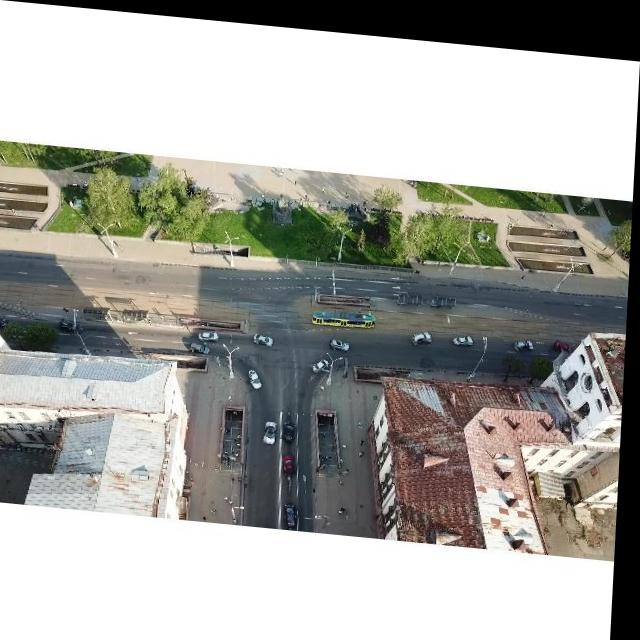vehicle: (413, 322, 437, 338), (267, 415, 282, 439), (249, 363, 266, 384), (63, 318, 87, 332), (315, 350, 332, 369), (286, 414, 300, 437), (287, 447, 301, 470), (333, 331, 354, 345), (556, 328, 576, 342), (289, 497, 301, 520), (257, 329, 278, 342), (518, 328, 538, 341), (202, 326, 223, 338), (192, 339, 213, 350), (457, 326, 477, 337), (0, 316, 10, 330)
